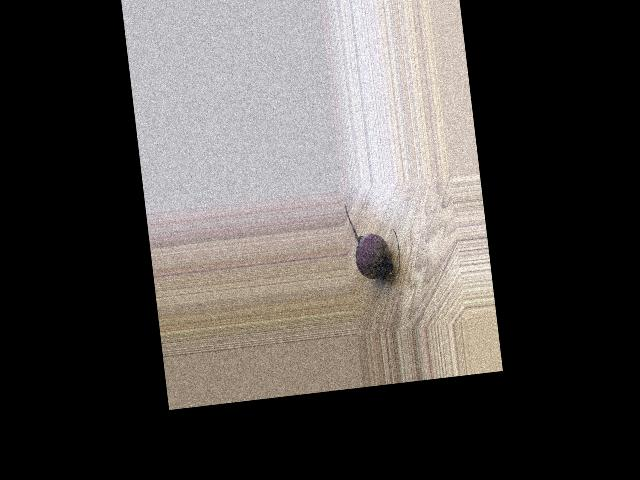beet: (344, 198, 402, 283)
